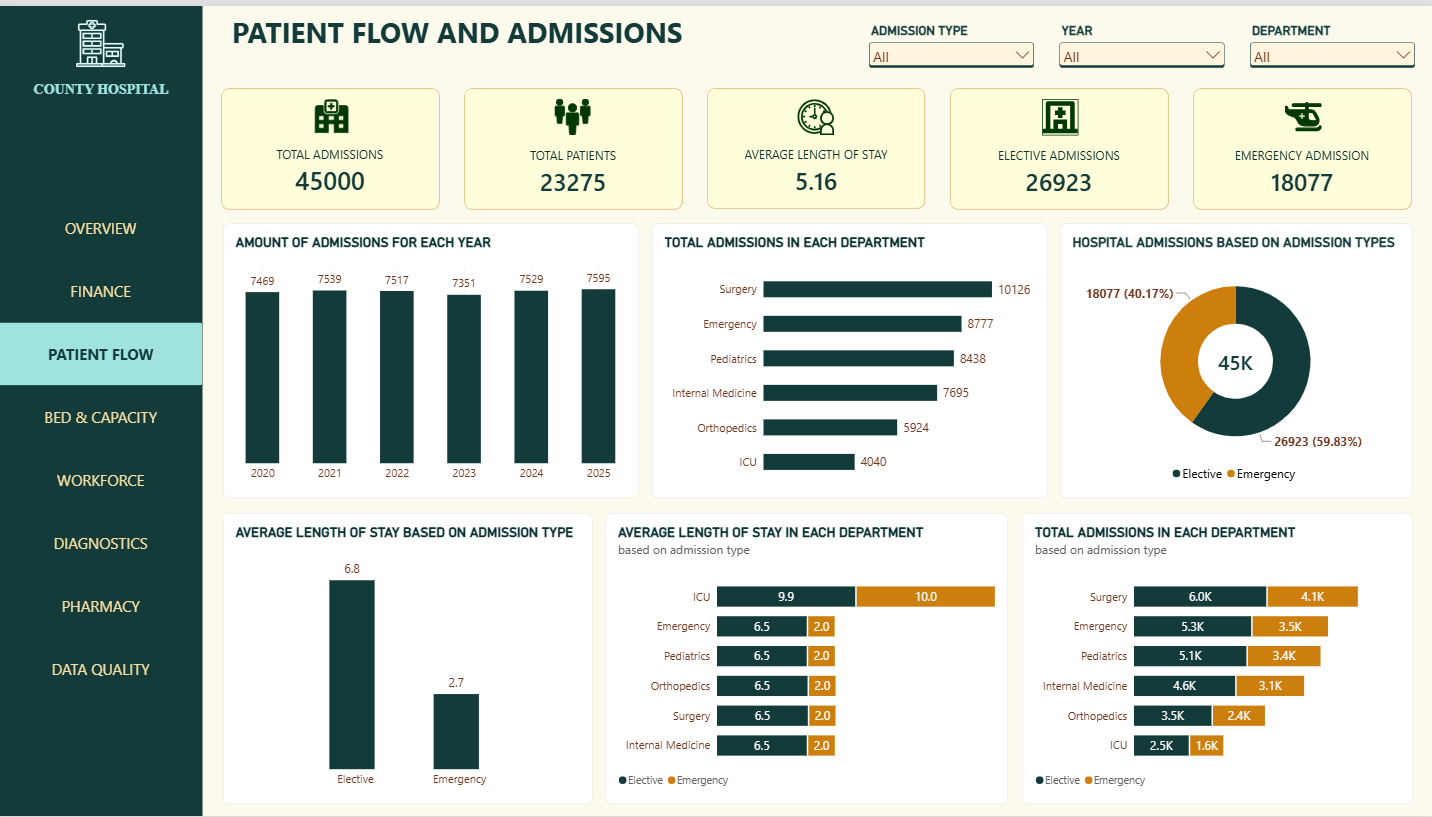

The dashboard page shown, as its layout file describes it:
{"tool":"powerbi","page":{"name":"PATIENT FLOW","canvas":[1920,1080],"ordinal":2},"visuals":[{"type":"shape","box":[9.8,0,270.8,1080.8],"z":0,"group":"g7"},{"type":"image","box":[112.3,0,65.9,100],"z":0,"group":"g2"},{"type":"textbox","box":[280.6,0,788.1,78.1],"z":0},{"type":"textbox","box":[9.8,100,270.8,63.4],"z":1000,"group":"g2"},{"type":"group","id":"g1","title":"Group 1","box":[954.7,109.8,290,160],"z":1000},{"type":"pageNavigator","box":[9.8,253.7,270.8,673.4],"z":1000,"group":"g7"},{"type":"group","id":"g2","title":"Group 1","box":[9.8,0,270.8,163.5],"z":2000,"group":"g7"},{"type":"group","id":"g3","title":"Group 2","box":[306.1,109.8,290.3,161],"z":2000},{"type":"cardVisual","fields":{"Data":["hospital_operations_analysis patient_clean_view.TOTAL PATIENTS"]},"box":[630.4,109.8,290.3,161],"z":2000,"group":"g4"},{"type":"group","id":"g4","title":"Group 3","box":[630.4,109.8,290.3,161],"z":3000},{"type":"cardVisual","fields":{"Data":["DateTable.ELECTIVE ADMISSIONS"]},"box":[1278.6,109.8,290.3,161],"z":3000,"group":"g5"},{"type":"group","id":"g5","title":"Group 4","box":[1278.6,109.8,290.3,161],"z":4000},{"type":"cardVisual","fields":{"Data":["DateTable.EMERGENCY ADMISSION"]},"box":[1603,109.8,290.3,161],"z":4000,"group":"g6"},{"type":"group","id":"g6","title":"Group 5","box":[1603,109.8,290.3,161],"z":5000},{"type":"image","box":[1399.8,124.4,48.8,48.8],"z":5000,"group":"g5"},{"type":"image","box":[1725,124.4,48.8,48.8],"z":6000,"group":"g6"},{"type":"clusteredColumnChart","title":"AMOUNT OF ADMISSIONS FOR EACH YEAR","fields":{"Category":["DateTable.Date.Variation.Date Hierarchy.Year"],"Y":["hospital_operations_analysis admission_clean_view.TOTAL ADMISSIONS"]},"box":[307.4,290.3,553.8,366],"z":6000},{"type":"donutChart","title":"HOSPITAL ADMISSIONS BASED ON ADMISSION TYPES","fields":{"Category":["hospital_operations_analysis admission_clean_view.admission_type"],"Y":["hospital_operations_analysis admission_clean_view.TOTAL ADMISSIONS"]},"box":[1424.9,290.3,468.4,366],"z":7000},{"type":"image","box":[750.8,124.4,48,48],"z":8000,"group":"g4"},{"type":"clusteredBarChart","title":"TOTAL ADMISSIONS IN EACH DEPARTMENT","fields":{"Category":["hospital_operations_analysis department.department_name"],"Y":["hospital_operations_analysis admission_clean_view.TOTAL ADMISSIONS"]},"box":[879.6,290.3,527,366],"z":8000},{"type":"cardVisual","fields":{"Data":["hospital_operations_analysis admission_clean_view.TOTAL ADMISSIONS"]},"box":[306.1,109.8,290.3,161],"z":9000,"group":"g3"},{"type":"clusteredColumnChart","title":"AVERAGE LENGTH OF STAY BASED ON ADMISSION TYPE","fields":{"Category":["hospital_operations_analysis admission_clean_view.admission_type"],"Y":["hospital_operations_analysis admission_clean_view.AVERAGE LENGTH OF STAY"]},"box":[307.4,675.8,492.8,387.9],"z":9000},{"type":"cardVisual","fields":{"Data":["hospital_operations_analysis admission_clean_view.Average Length of Stay"]},"box":[954.7,109.8,290,160],"z":10000,"group":"g1"},{"type":"image","box":[428.1,124.4,48.8,48.8],"z":10000,"group":"g3"},{"type":"barChart","title":"AVERAGE LENGTH OF STAY IN EACH DEPARTMENT","fields":{"Category":["hospital_operations_analysis department.department_name"],"Series":["hospital_operations_analysis admission_clean_view.admission_type"],"Y":["hospital_operations_analysis admission_clean_view.AVERAGE LENGTH OF STAY"]},"box":[818.6,675.8,536.8,387.9],"z":10000},{"type":"image","box":[1074.3,124.4,48.8,48.8],"z":11000,"group":"g1"},{"type":"barChart","title":"TOTAL ADMISSIONS IN EACH DEPARTMENT","fields":{"Category":["hospital_operations_analysis department.department_name"],"Series":["hospital_operations_analysis admission_clean_view.admission_type"],"Y":["hospital_operations_analysis admission_clean_view.TOTAL ADMISSIONS"]},"box":[1373.6,675.8,519.7,387.9],"z":11000},{"type":"group","id":"g7","title":"Group 2","box":[9.8,0,270.8,1080.8],"z":12000},{"type":"slicer","fields":{"Values":["hospital_operations_analysis admission_clean_view.admission_type"]},"box":[1163.8,22,230,78.1],"z":17000},{"type":"slicer","fields":{"Values":["DateTable.Year"]},"box":[1417.5,22,230,78.1],"z":18000},{"type":"slicer","fields":{"Values":["hospital_operations_analysis department.department_type"]},"box":[1671.3,22,230,78.1],"z":19000}]}

Visuals, with their boxes in screenshot pixels (x1, y1, x2, y2), scaled from the page's 1920x1080 canvas onto the 1432x817 screenshot:
shape: <box>7,0,209,816</box>
image: <box>84,0,133,76</box>
textbox: <box>209,0,797,59</box>
textbox: <box>7,76,209,124</box>
"Group 1" group: <box>712,83,928,204</box>
pageNavigator: <box>7,192,209,701</box>
"Group 1" group: <box>7,0,209,124</box>
"Group 2" group: <box>228,83,445,205</box>
cardVisual - hospital_operations_analysis patient_clean_view.TOTAL PATIENTS: <box>470,83,687,205</box>
"Group 3" group: <box>470,83,687,205</box>
cardVisual - DateTable.ELECTIVE ADMISSIONS: <box>954,83,1170,205</box>
"Group 4" group: <box>954,83,1170,205</box>
cardVisual - DateTable.EMERGENCY ADMISSION: <box>1196,83,1412,205</box>
"Group 5" group: <box>1196,83,1412,205</box>
image: <box>1044,94,1080,131</box>
image: <box>1287,94,1323,131</box>
"AMOUNT OF ADMISSIONS FOR EACH YEAR" clusteredColumnChart: <box>229,220,642,496</box>
"HOSPITAL ADMISSIONS BASED ON ADMISSION TYPES" donutChart: <box>1063,220,1412,496</box>
image: <box>560,94,596,130</box>
"TOTAL ADMISSIONS IN EACH DEPARTMENT" clusteredBarChart: <box>656,220,1049,496</box>
cardVisual - hospital_operations_analysis admission_clean_view.TOTAL ADMISSIONS: <box>228,83,445,205</box>
"AVERAGE LENGTH OF STAY BASED ON ADMISSION TYPE" clusteredColumnChart: <box>229,511,597,805</box>
cardVisual - hospital_operations_analysis admission_clean_view.Average Length of Stay: <box>712,83,928,204</box>
image: <box>319,94,356,131</box>
"AVERAGE LENGTH OF STAY IN EACH DEPARTMENT" barChart: <box>611,511,1011,805</box>
image: <box>801,94,838,131</box>
"TOTAL ADMISSIONS IN EACH DEPARTMENT" barChart: <box>1024,511,1412,805</box>
"Group 2" group: <box>7,0,209,816</box>
slicer - hospital_operations_analysis admission_clean_view.admission_type: <box>868,17,1040,76</box>
slicer - DateTable.Year: <box>1057,17,1229,76</box>
slicer - hospital_operations_analysis department.department_type: <box>1247,17,1418,76</box>
